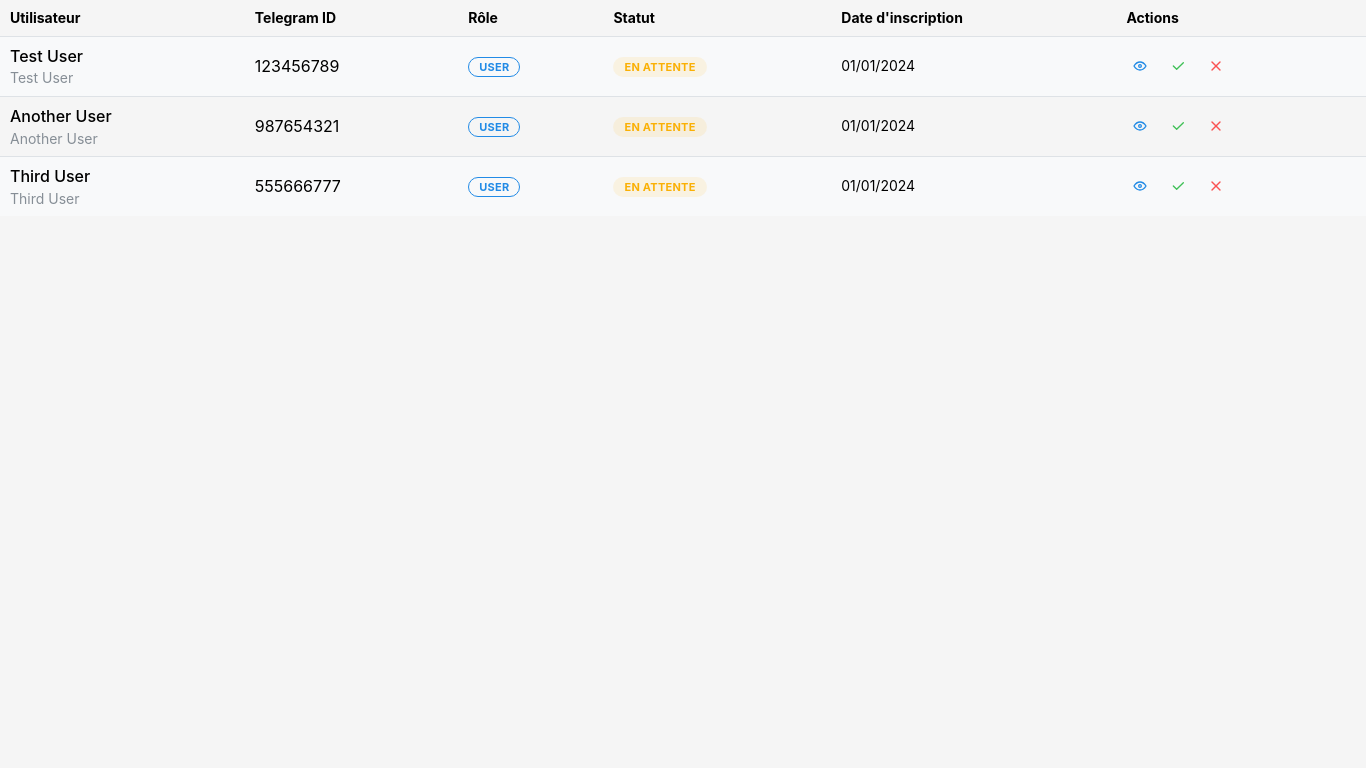
Scenario: PendingUsersTable › Modal d'approbation › ferme le modal d'approbation quand on clique sur Annuler
Click the button with test id "approve-user-1": {"x": 1178, "y": 66} [1164, 52, 1192, 80]
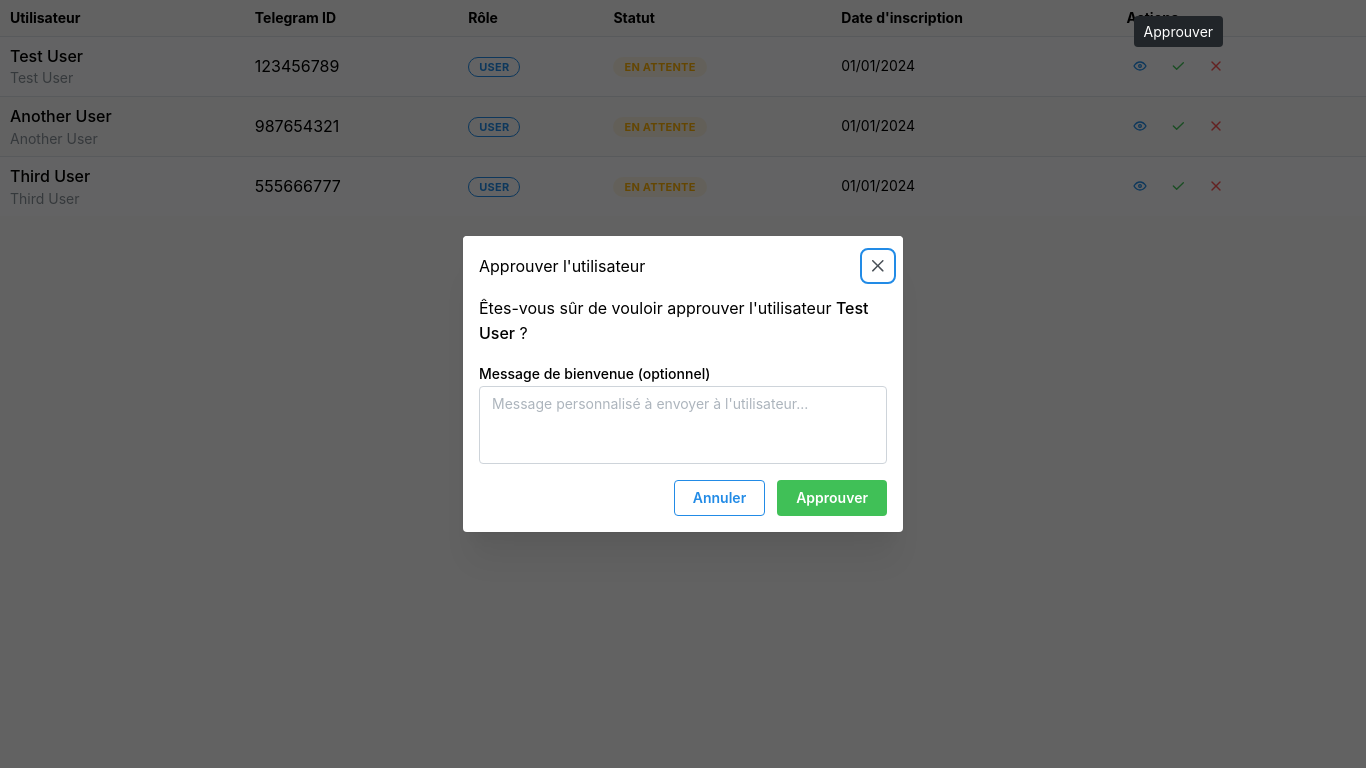
Click the button "Annuler": {"x": 720, "y": 498} [674, 480, 765, 516]
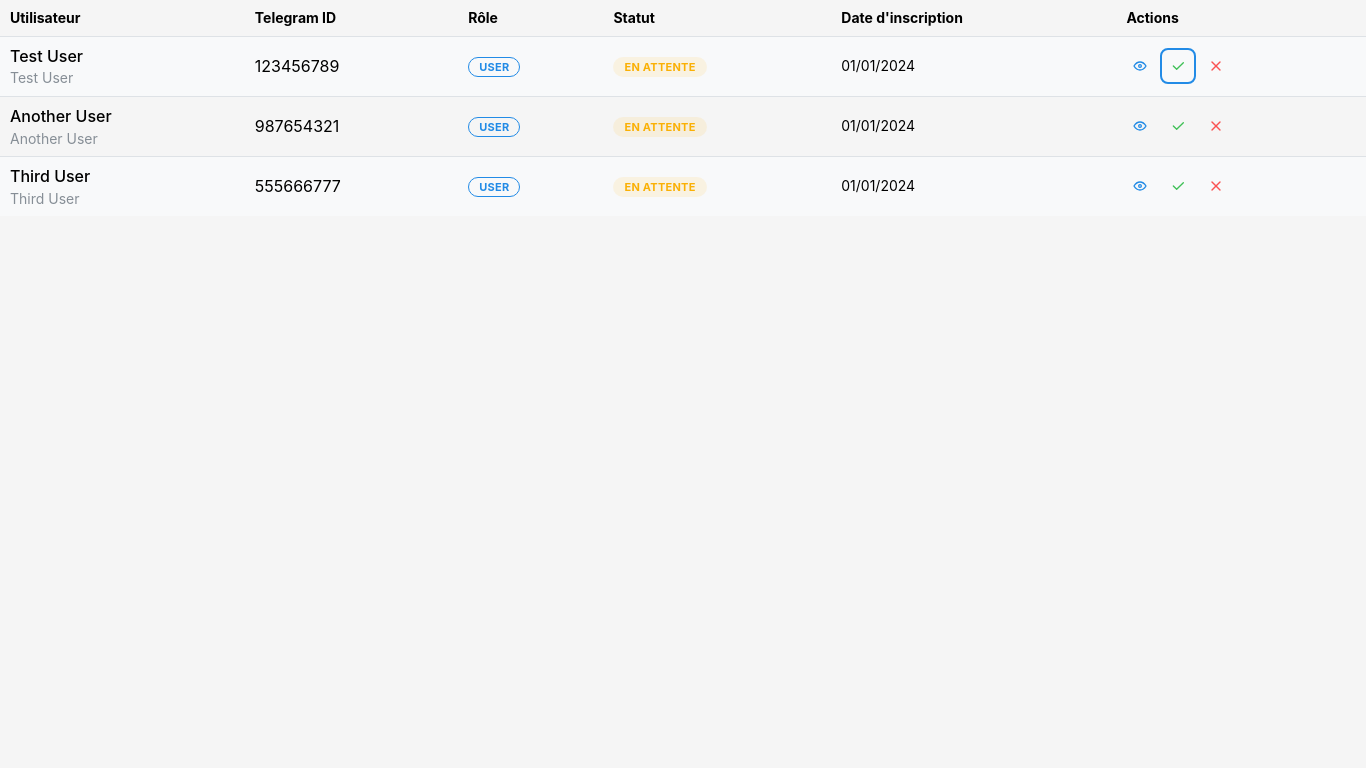
Result: the heading "Approuver l'utilisateur" is gone
